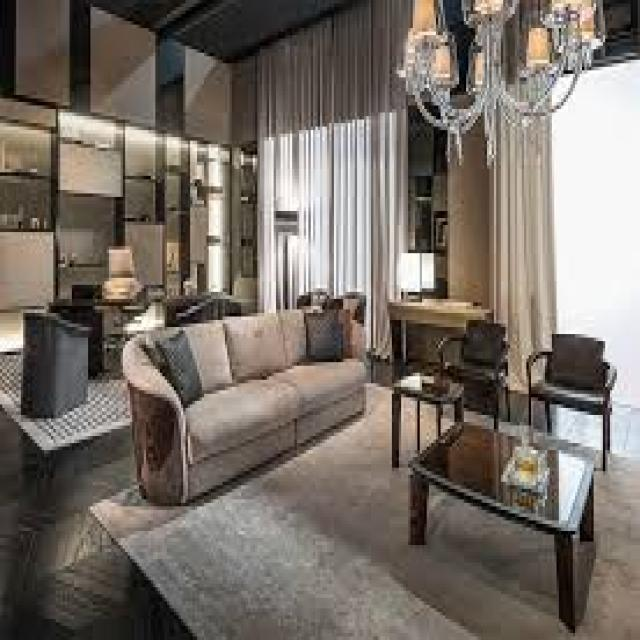Chair: (527, 323, 622, 458), (25, 307, 93, 413), (440, 320, 512, 419)
Lamp: (394, 0, 617, 169)
Sofa: (128, 319, 372, 473)
Table: (411, 427, 600, 628), (390, 367, 461, 461)
